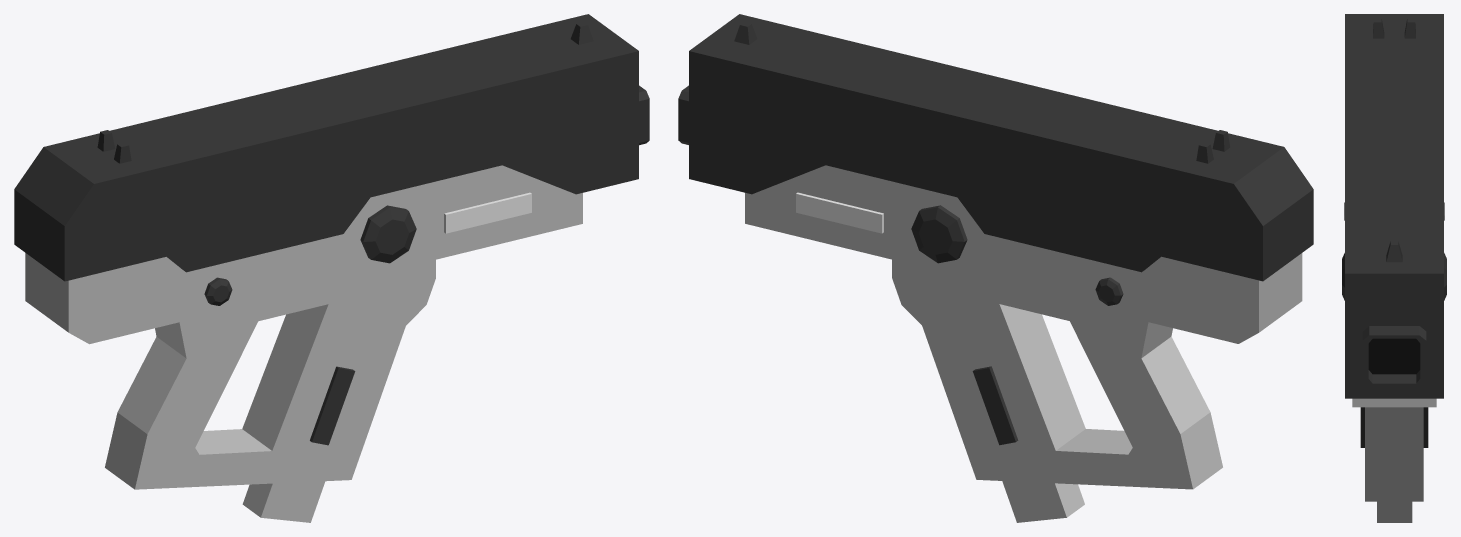
Rendered from Gun_Submachine_V4.FBX.
The picture shows the model from 3 angles, left to right: view 1: azimuth 30°, elevation 25°; view 2: azimuth 150°, elevation 25°; view 3: azimuth 270°, elevation 25°; orthographic projection. The views are drawn at different scales.
Visible parts, largest first — view 1: Gun_Submachine_V4, Magazine; view 2: Gun_Submachine_V4, Magazine; view 3: Gun_Submachine_V4, Magazine.
Boxes of the visible parts, x1=… form: Gun_Submachine_V4: x1=14, y1=14, x2=649, y2=489; Magazine: x1=242, y1=481, x2=325, y2=522; Gun_Submachine_V4: x1=678, y1=14, x2=1313, y2=489; Magazine: x1=1002, y1=481, x2=1084, y2=522; Gun_Submachine_V4: x1=1342, y1=14, x2=1446, y2=501; Magazine: x1=1377, y1=501, x2=1412, y2=522.
Size of the model in its own units: 176 by 120 by 27.56.
